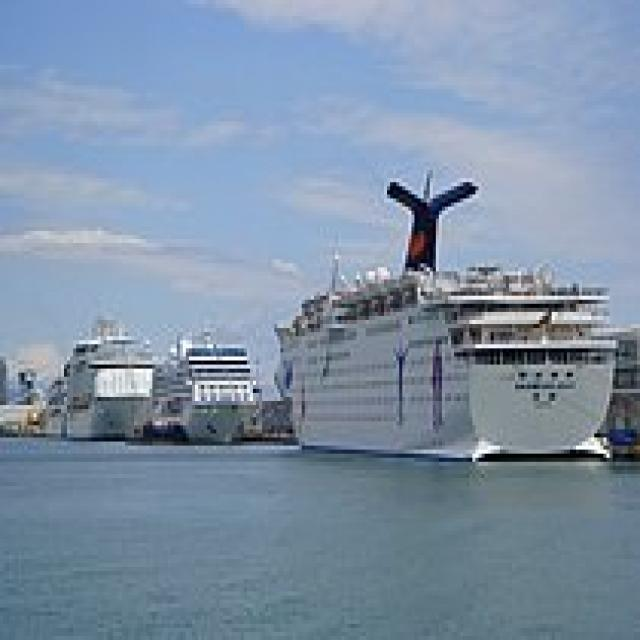Ship: (248, 163, 638, 479)
